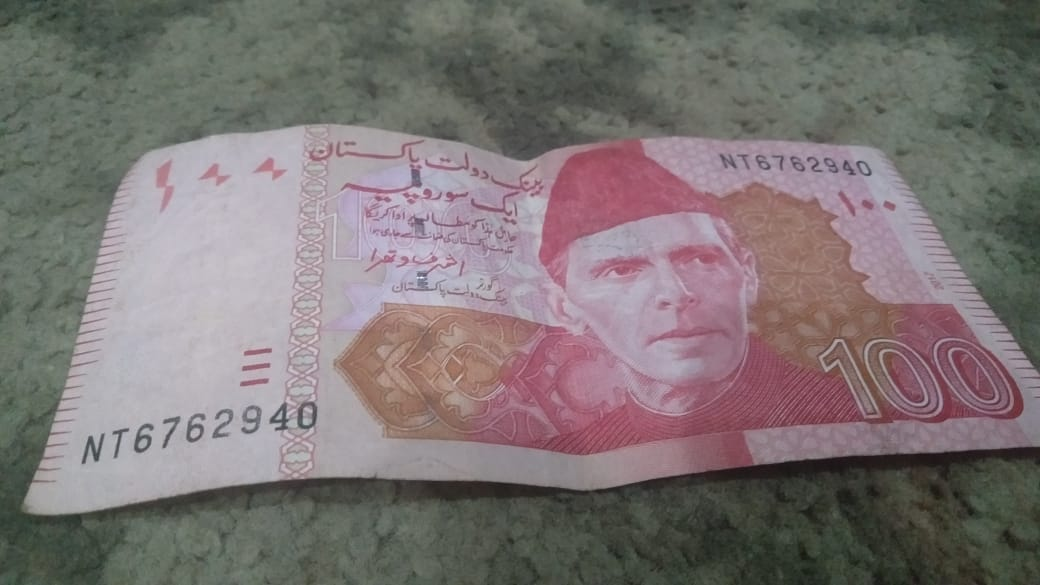100 rupee: (51, 119, 1040, 538)
